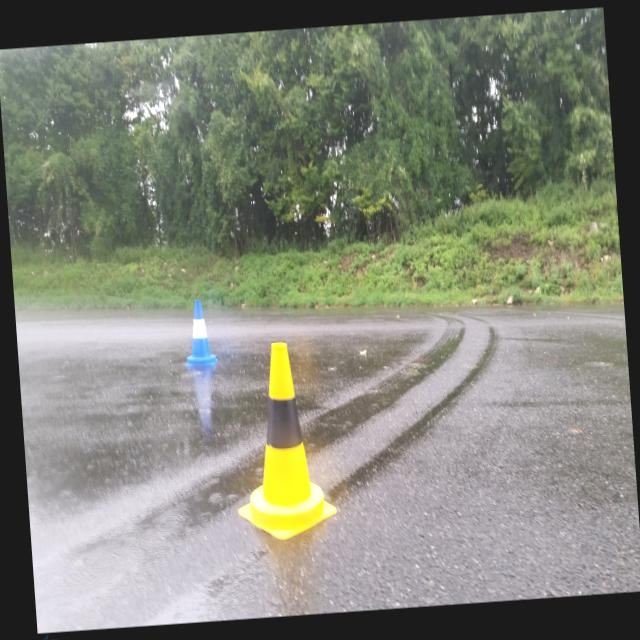blue_cone: (180, 298, 218, 368)
yellow_cone: (226, 339, 338, 542)
